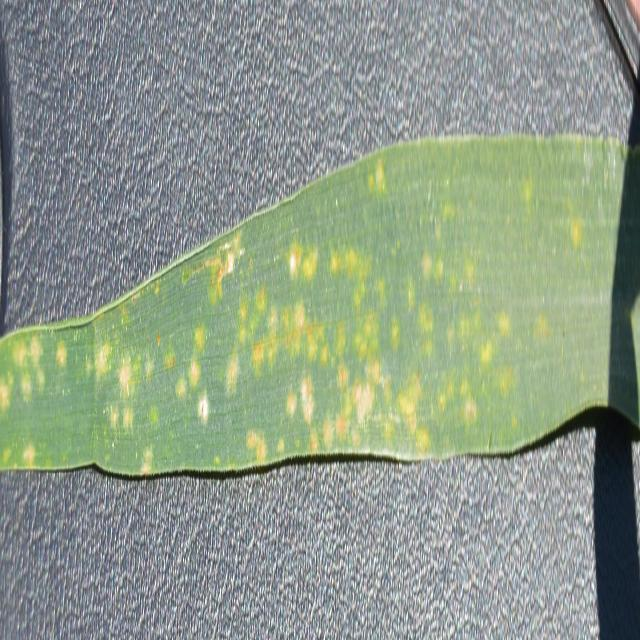Powdery Mildew: (1, 336, 521, 459)
